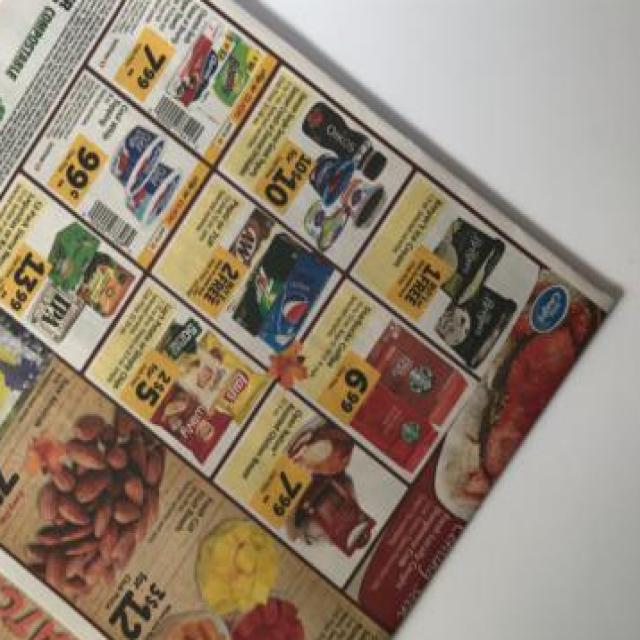organic: (6, 8, 623, 625)
